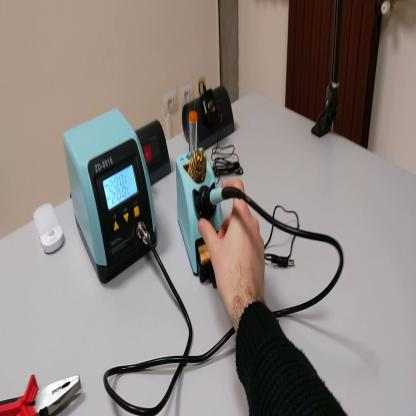hand: (199, 199, 267, 315)
pliers: (2, 366, 82, 413)
socket: (183, 81, 236, 155), (137, 118, 173, 188)
welder base: (178, 113, 227, 286)
welder probe tip: (199, 183, 243, 218)
welder station: (65, 104, 158, 283)
